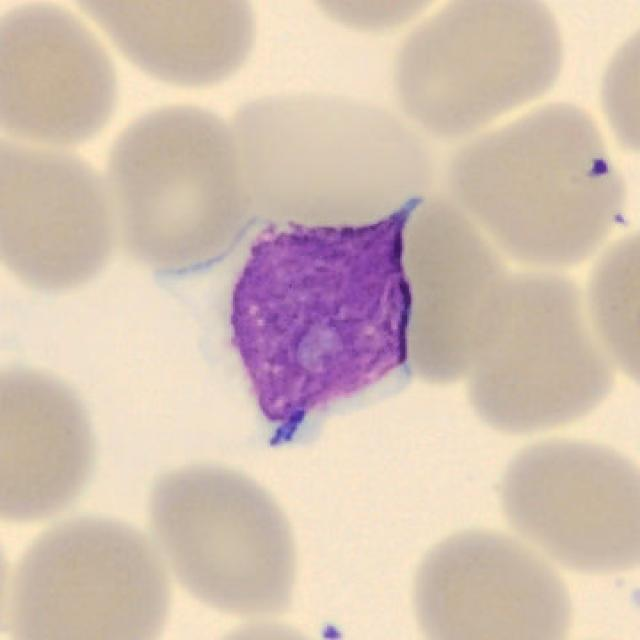Linfocito atipico: (155, 199, 421, 448)
